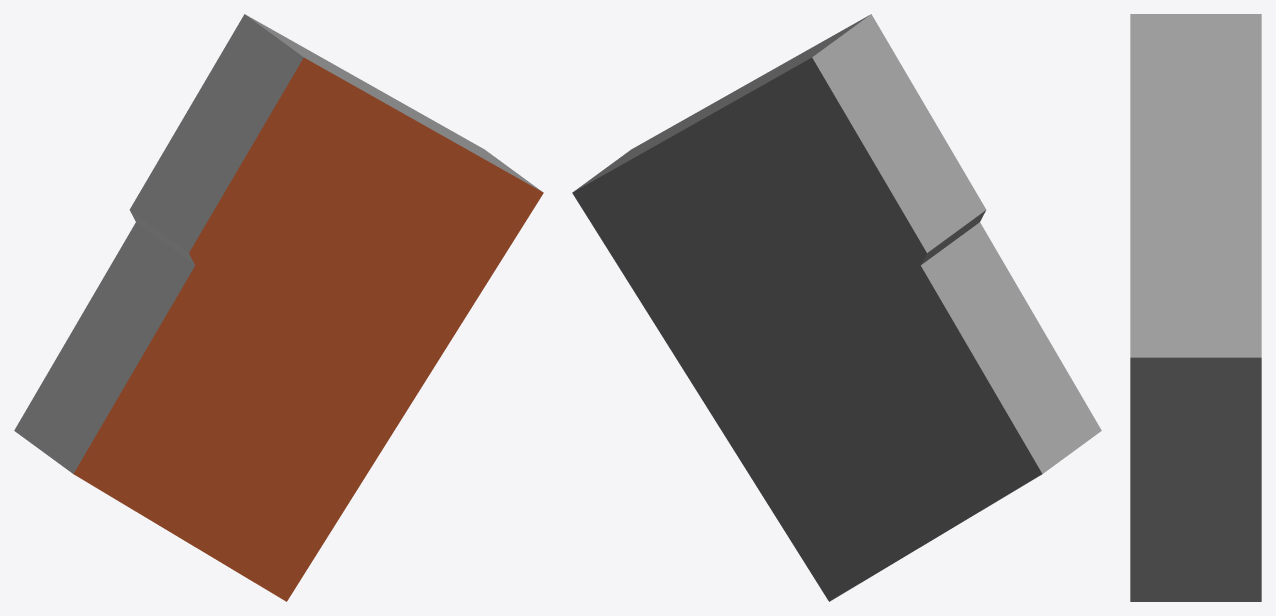
File: construction_0995_assumed_A_Casa_h6m.obj
3 views of the same model, side by side, from view 1: azimuth 30°, elevation 25°; view 2: azimuth 150°, elevation 25°; view 3: azimuth 270°, elevation 25° (orthographic). The views are drawn at different scales.
Visible parts, largest first — view 1: construction_0995_assumed_A_Casa; view 2: construction_0995_assumed_A_Casa; view 3: construction_0995_assumed_A_Casa.
Boxes of the visible parts, bbox=[...] form: construction_0995_assumed_A_Casa: bbox=[14, 14, 543, 601]; construction_0995_assumed_A_Casa: bbox=[572, 14, 1101, 601]; construction_0995_assumed_A_Casa: bbox=[1130, 14, 1261, 601].
Bounding box in the file's own units: 27.48 × 30.16 × 6.
